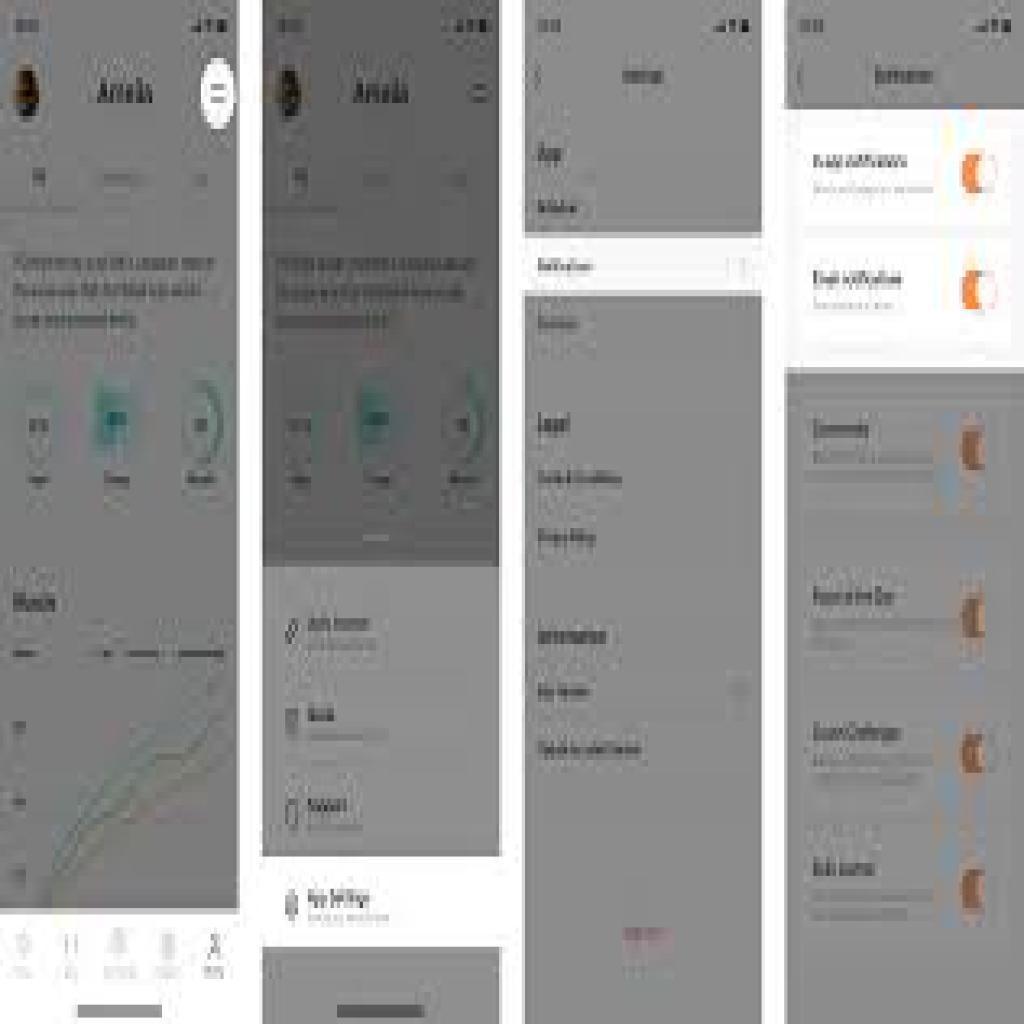switch: (960, 594, 1001, 644), (958, 731, 1004, 774), (960, 269, 1001, 312), (959, 868, 1001, 909), (961, 154, 1002, 195), (961, 430, 997, 470)
